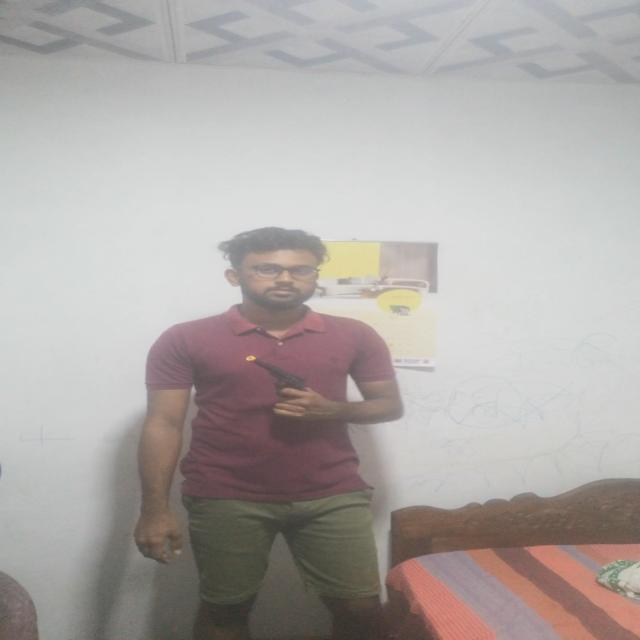Gun_Holder: (230, 347, 329, 419)
Person: (111, 228, 410, 640)
